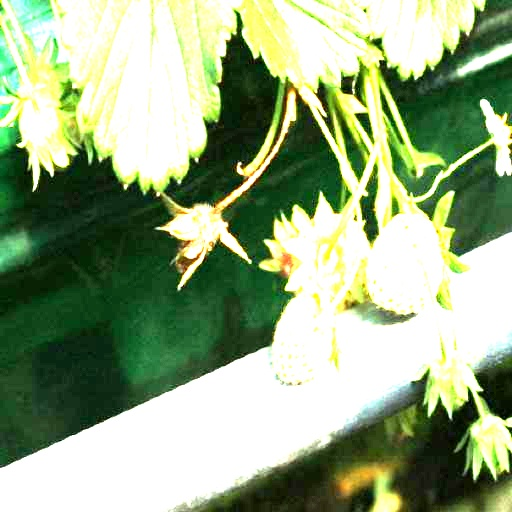Gray Mold: (157, 201, 251, 291)
